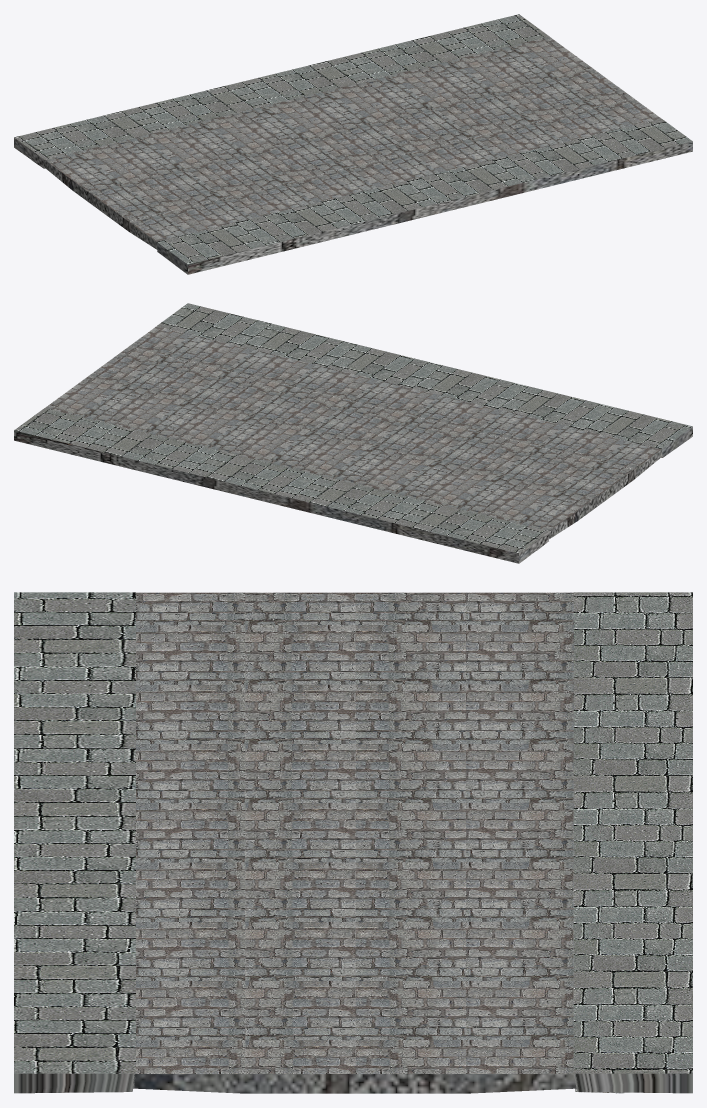
File: callesagargana.fbx
3 views of the same model, one above another, from view 1: azimuth 30°, elevation 25°; view 2: azimuth 150°, elevation 25°; view 3: azimuth 270°, elevation 25° (orthographic). The views are drawn at different scales.
Visible parts, largest first — view 1: 4in 2.008; view 2: 4in 2.008; view 3: 4in 2.008.
Boxes of the visible parts, x1,y1,x2,y2 form: 4in 2.008: (14, 14, 692, 274); 4in 2.008: (14, 303, 692, 563); 4in 2.008: (14, 592, 692, 1093).
Size of the model in its own units: 563 by 10.98 by 335.
2 materials, 2 textured.
